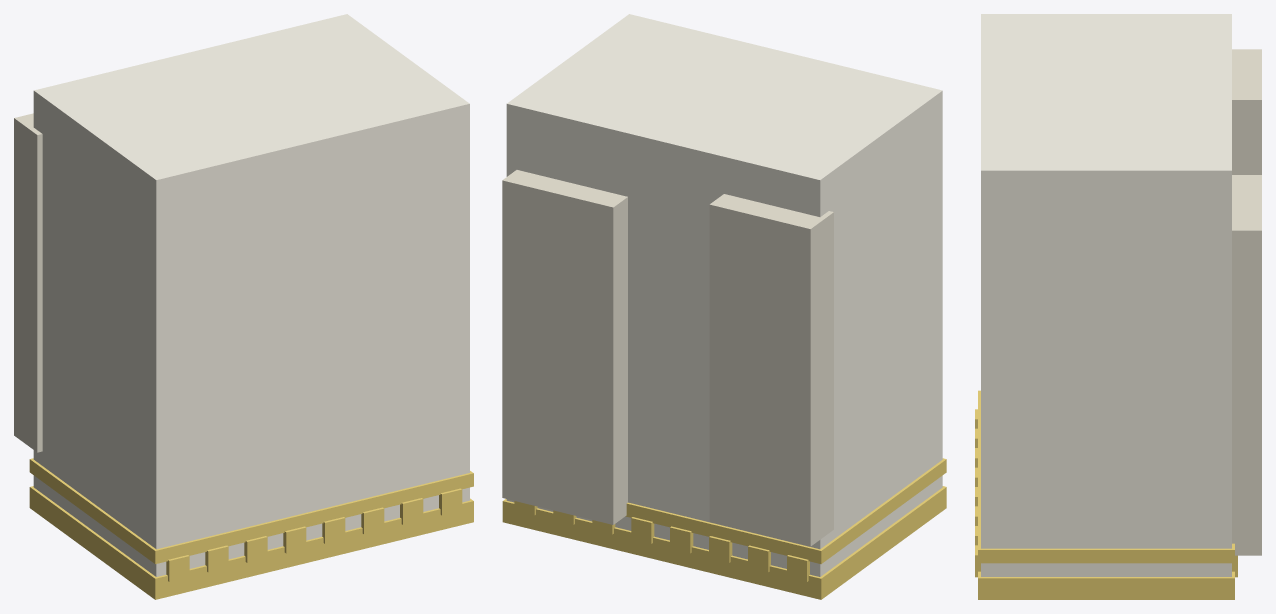
Rendered from toga_saia.glb.
3 renders of one model, left to right at view 1: azimuth 30°, elevation 25°; view 2: azimuth 150°, elevation 25°; view 3: azimuth 270°, elevation 25°, orthographic. The views are drawn at different scales.
Parts seen in each view (by area): view 1: toga_saia; view 2: toga_saia; view 3: toga_saia.
Boxes of the visible parts, x1=… form: toga_saia: x1=14, y1=14, x2=473, y2=599; toga_saia: x1=502, y1=14, x2=946, y2=599; toga_saia: x1=975, y1=14, x2=1261, y2=599.
Bounding box in the file's own units: 0.635 × 0.79 × 0.48.
